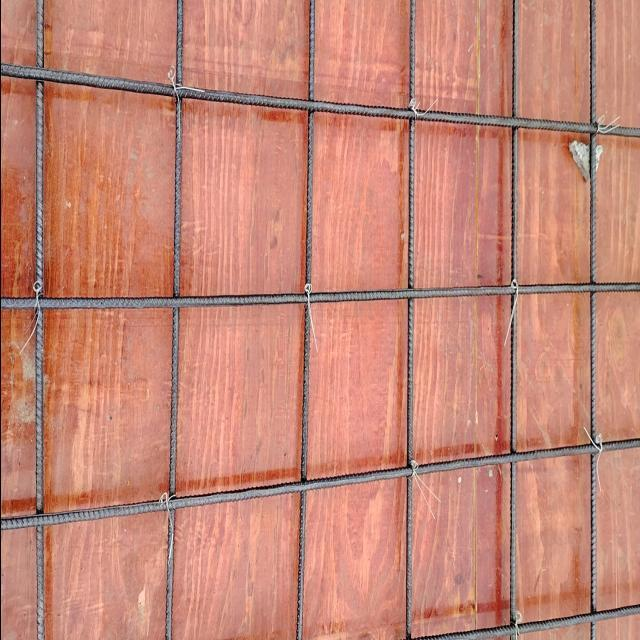ribbed bar: (1, 436, 640, 532), (1, 63, 640, 142), (1, 281, 640, 312), (295, 1, 315, 640), (166, 1, 184, 640), (418, 603, 640, 640), (405, 1, 417, 640), (34, 1, 45, 640), (509, 1, 519, 640), (589, 1, 597, 640)
